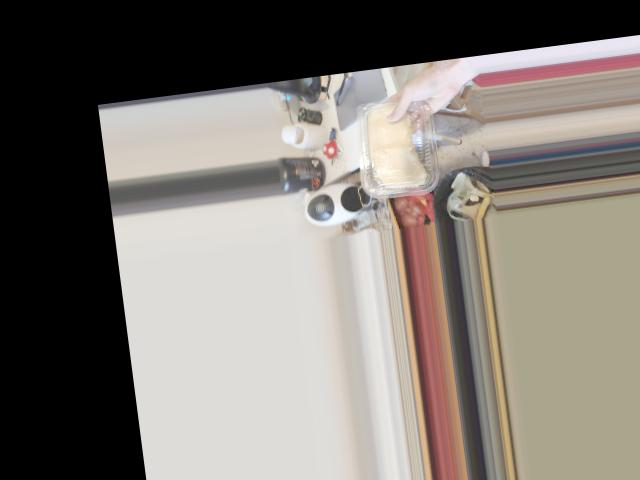cheese: (344, 98, 446, 194)
